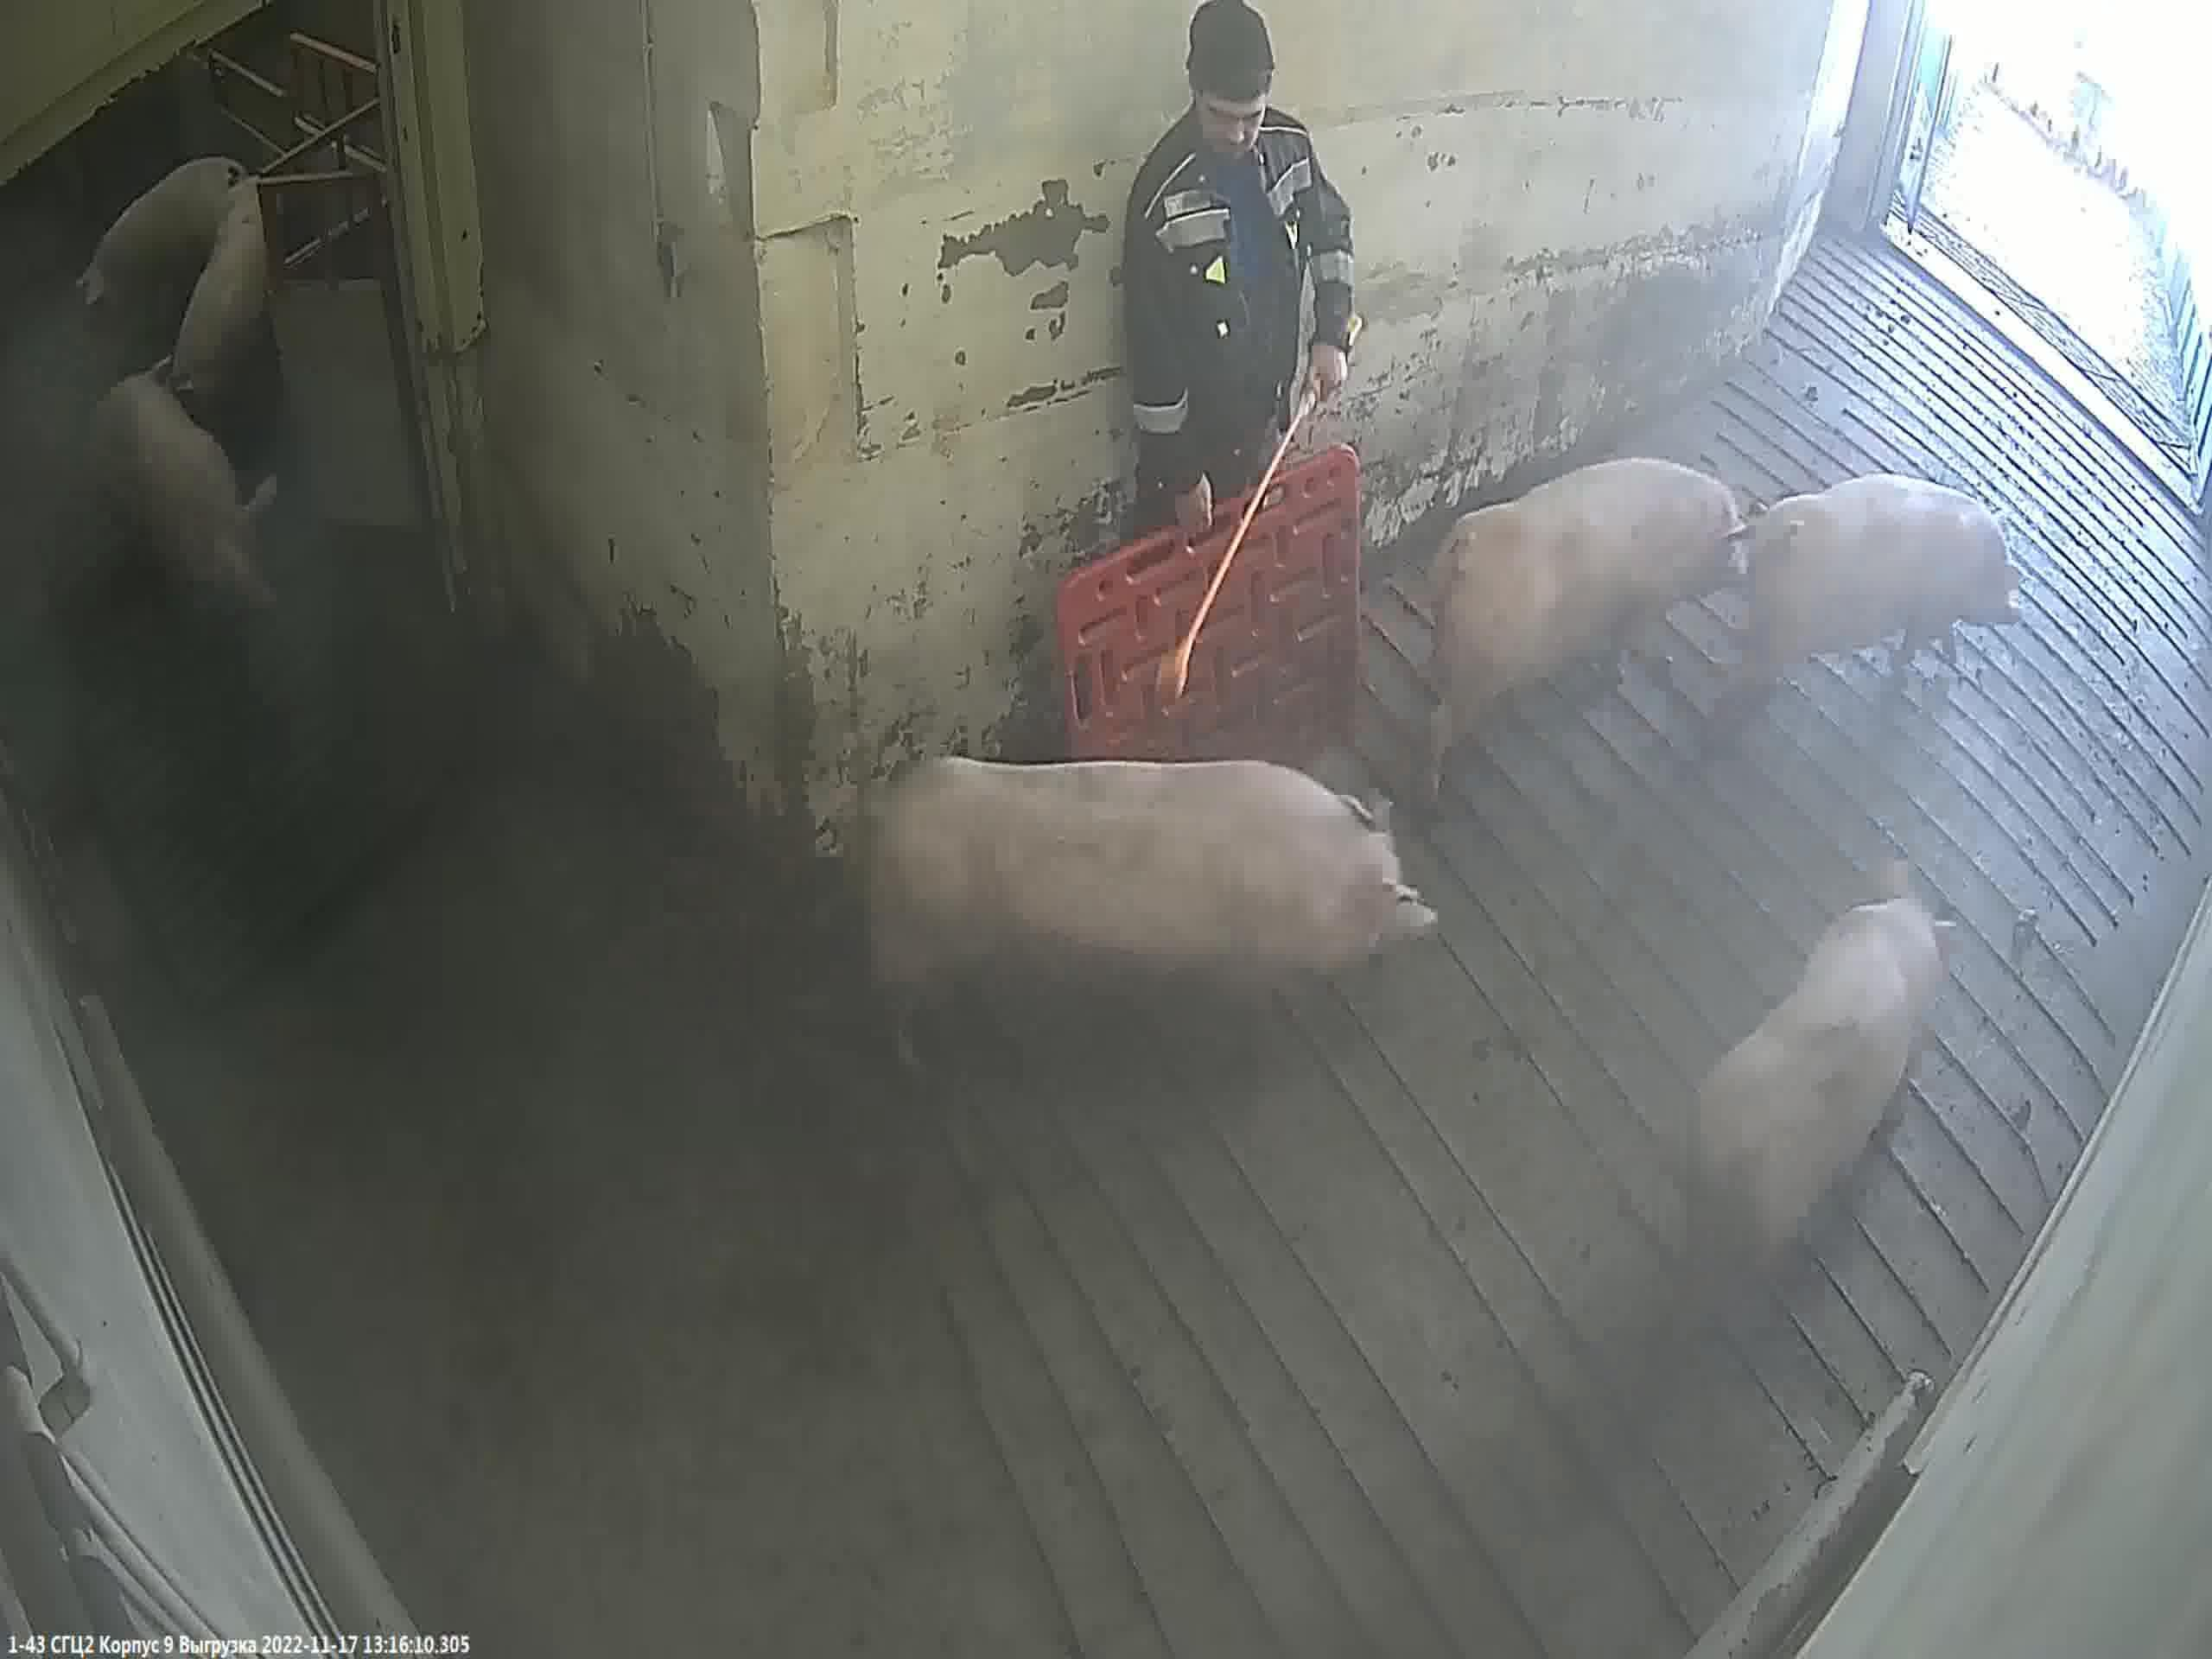Pigs: (866, 758, 1433, 1070), (1693, 897, 1947, 1303), (1439, 460, 1747, 775), (1757, 476, 2020, 685), (105, 373, 277, 606), (160, 183, 268, 413), (84, 157, 242, 305)
